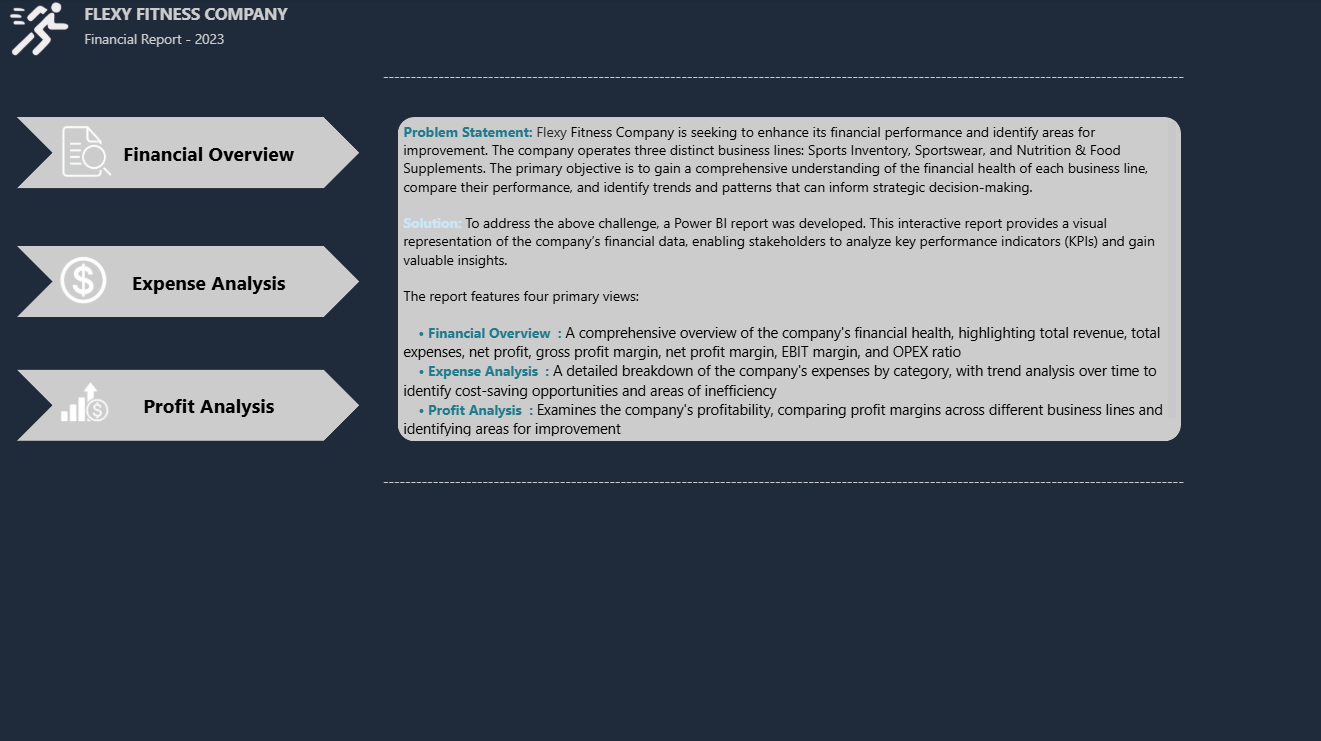

Layout of this report page (visuals, bound fields, positions):
{"tool":"powerbi","page":{"name":"Home","canvas":[1280,720],"ordinal":0},"visuals":[{"type":"group","id":"g1","title":"Fitness Company","box":[0,0,326,61.5],"z":0},{"type":"image","title":"Dollar Icon","box":[0,0,77.2,61.5],"z":0,"group":"g1"},{"type":"shape","box":[17,116,331,69],"z":0,"group":"g2"},{"type":"shape","box":[385,116,756,313],"z":0,"group":"g5"},{"type":"shape","box":[17,240,331,69],"z":0,"group":"g3"},{"type":"shape","box":[17,360,331,69],"z":0,"group":"g4"},{"type":"textbox","box":[77,0,249,41],"z":1000,"group":"g1"},{"type":"group","id":"g2","title":"Financial Overview","box":[17,116,331,69],"z":1000},{"type":"image","box":[47,116,69,66],"z":1000,"group":"g2"},{"type":"textbox","box":[385,116,756,313],"z":1000,"group":"g5"},{"type":"image","box":[47,240,69,66],"z":1000,"group":"g3"},{"type":"image","box":[47,360,69,66],"z":1000,"group":"g4"},{"type":"textbox","box":[77.2,26,150.8,30.2],"z":2000,"group":"g1"},{"type":"group","id":"g3","title":"Expense Analysis","box":[17,240,331,69],"z":2000},{"type":"group","id":"g4","title":"Profit Analysis","box":[17,360,331,69],"z":3000},{"type":"group","id":"g5","title":"Group 1","box":[385,116,756,313],"z":4000},{"type":"textbox","box":[366,62,793,31],"z":5000},{"type":"textbox","box":[366,452,793,31],"z":6000}]}

Visuals, with their boxes in screenshot pixels (x1, y1, x2, y2), scaled from the page's 1280x720 canvas onto the 1321x741 screenshot:
"Fitness Company" group: (left=0, top=0, right=336, bottom=63)
"Dollar Icon" image: (left=0, top=0, right=80, bottom=63)
shape: (left=18, top=119, right=359, bottom=190)
shape: (left=397, top=119, right=1178, bottom=442)
shape: (left=18, top=247, right=359, bottom=318)
shape: (left=18, top=370, right=359, bottom=442)
textbox: (left=79, top=0, right=336, bottom=42)
"Financial Overview" group: (left=18, top=119, right=359, bottom=190)
image: (left=49, top=119, right=120, bottom=187)
textbox: (left=397, top=119, right=1178, bottom=442)
image: (left=49, top=247, right=120, bottom=315)
image: (left=49, top=370, right=120, bottom=438)
textbox: (left=80, top=27, right=235, bottom=58)
"Expense Analysis" group: (left=18, top=247, right=359, bottom=318)
"Profit Analysis" group: (left=18, top=370, right=359, bottom=442)
"Group 1" group: (left=397, top=119, right=1178, bottom=442)
textbox: (left=378, top=64, right=1196, bottom=96)
textbox: (left=378, top=465, right=1196, bottom=497)
